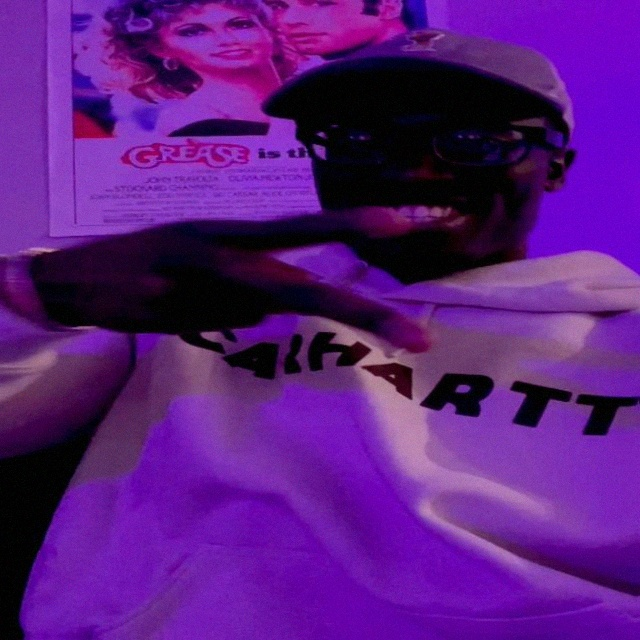Scissors: (15, 201, 440, 353)
